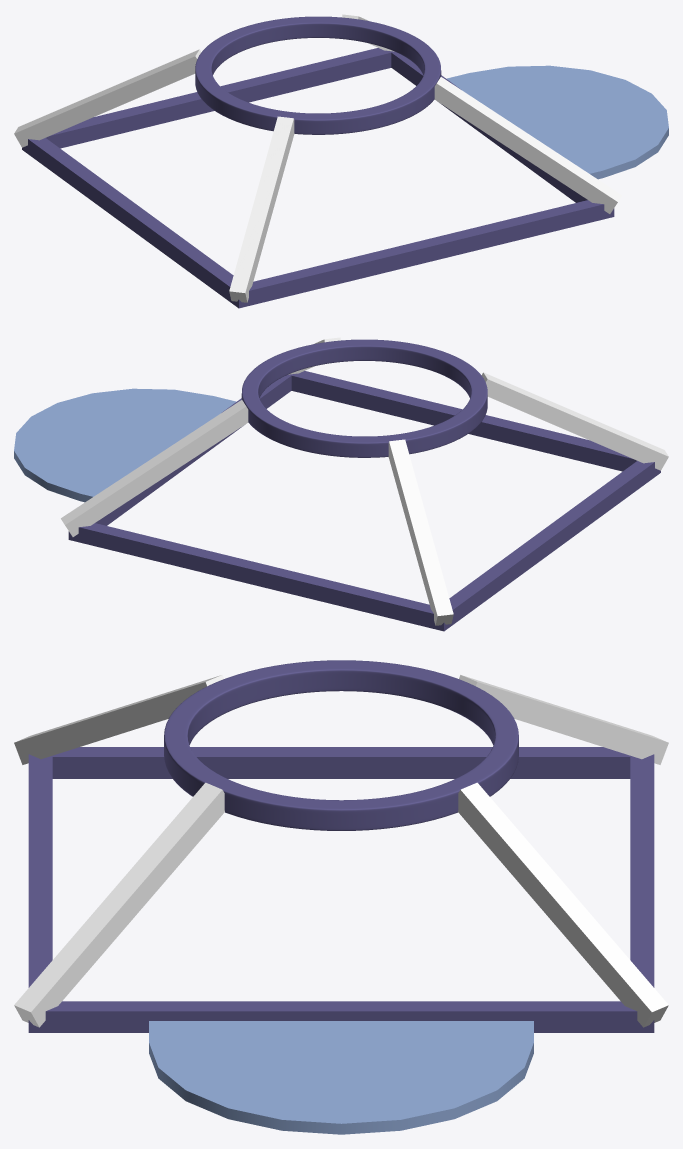
The model's file is roof.gltf.
3 renders of one model, top to bottom at view 1: azimuth 30°, elevation 25°; view 2: azimuth 150°, elevation 25°; view 3: azimuth 270°, elevation 25°, orthographic. The views are drawn at different scales.
Parts seen in each view (by area): view 1: roofBase_geo, circleCeiling_geo, ceilingRing_geo, roofPole1_geo, roofPole3_geo, roofPole2_geo; view 2: roofBase_geo, circleCeiling_geo, ceilingRing_geo, roofPole4_geo, roofPole2_geo, roofPole3_geo; view 3: roofBase_geo, circleCeiling_geo, ceilingRing_geo, roofPole1_geo, roofPole4_geo, roofPole2_geo, roofPole3_geo.
Part boxes in pixels (<box>): roofBase_geo: <box>22,48,614,308</box>; circleCeiling_geo: <box>446,65,668,179</box>; ceilingRing_geo: <box>195,16,441,134</box>; roofPole1_geo: <box>434,77,621,213</box>; roofPole3_geo: <box>14,49,201,147</box>; roofPole2_geo: <box>229,116,294,302</box>; roofBase_geo: <box>68,371,660,631</box>; circleCeiling_geo: <box>14,388,236,502</box>; ceilingRing_geo: <box>241,339,487,457</box>; roofPole4_geo: <box>61,400,248,536</box>; roofPole2_geo: <box>481,372,668,470</box>; roofPole3_geo: <box>388,439,453,625</box>; roofBase_geo: <box>28,747,654,1032</box>; circleCeiling_geo: <box>149,1021,533,1134</box>; ceilingRing_geo: <box>164,660,518,830</box>; roofPole1_geo: <box>14,782,224,1027</box>; roofPole4_geo: <box>458,782,668,1027</box>; roofPole2_geo: <box>14,675,223,764</box>; roofPole3_geo: <box>459,675,668,764</box>.
Bounding box in the file's own units: 36.71 × 7.74 × 27.22.
